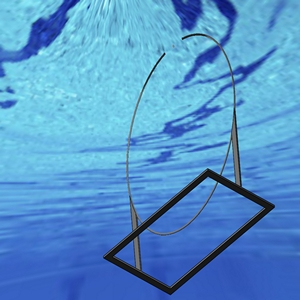circle: (102, 29, 273, 293)
